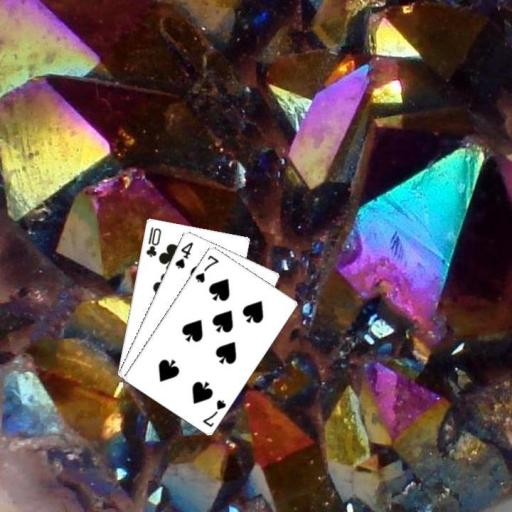10C: (143, 223, 162, 258)
4S: (172, 239, 194, 269)
7S: (199, 396, 228, 428), (192, 252, 220, 284)
